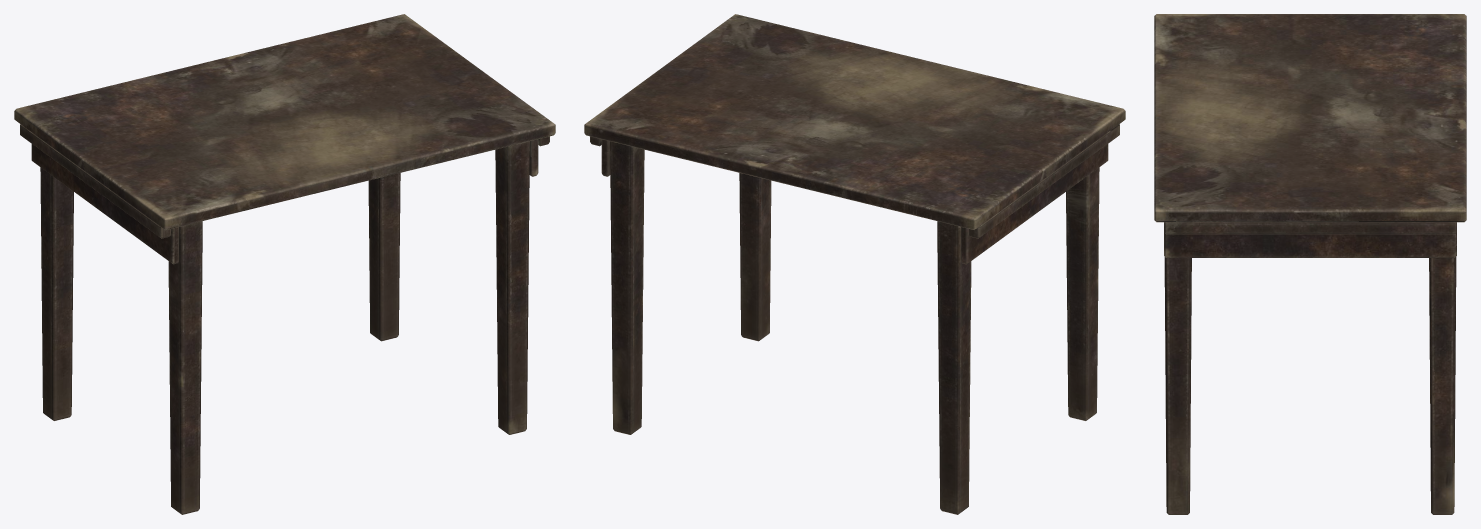
The model's file is table.dae.
3 renders of one model, left to right at view 1: azimuth 30°, elevation 25°; view 2: azimuth 150°, elevation 25°; view 3: azimuth 270°, elevation 25°, orthographic. The views are drawn at different scales.
Parts seen in each view (by area): view 1: table_low; view 2: table_low; view 3: table_low.
Part boxes in pixels (<box>): table_low: <box>14,14,555,514</box>; table_low: <box>584,14,1125,514</box>; table_low: <box>1154,14,1466,514</box>.
Size of the model in its own units: 100 by 67.04 by 74.97.
Materials: 1 (1 with a texture image).
